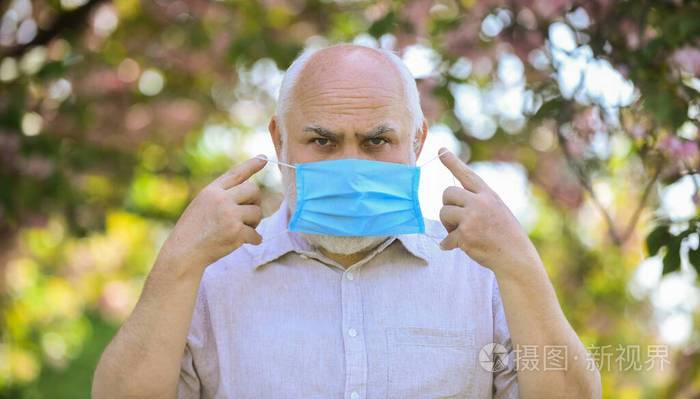mask: (288, 58, 420, 253)
